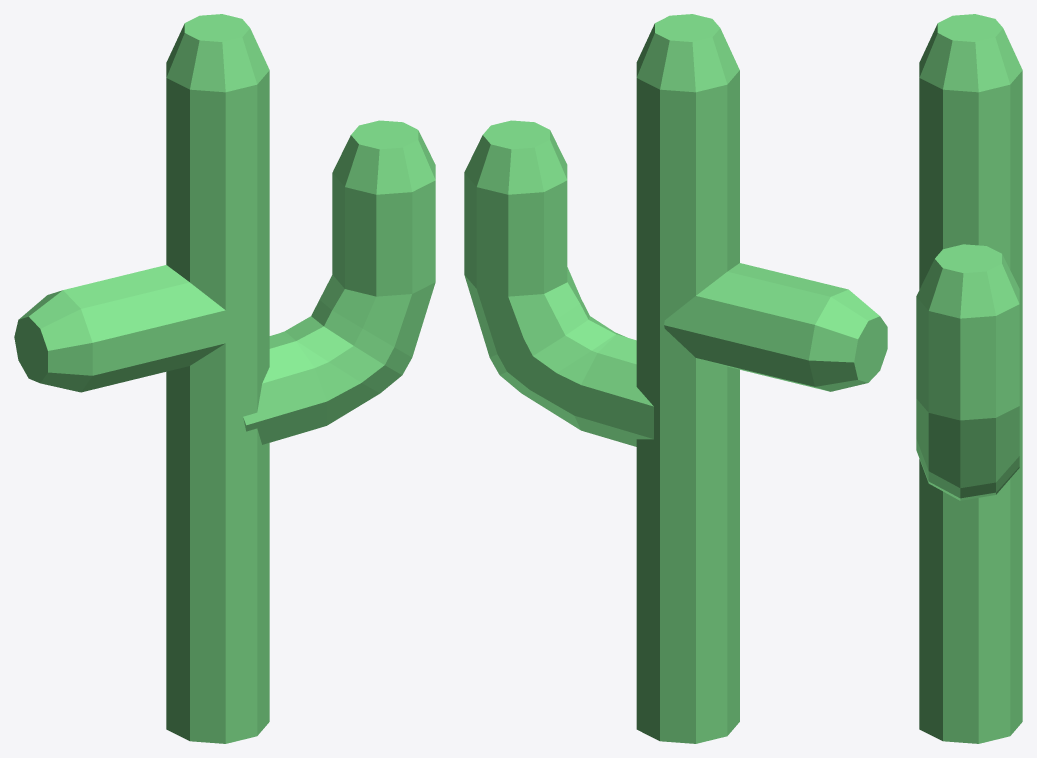
The model's file is cactus.fbx.
The picture shows the model from 3 angles, left to right: view 1: azimuth 30°, elevation 25°; view 2: azimuth 150°, elevation 25°; view 3: azimuth 270°, elevation 25°; orthographic projection.
Parts seen in each view (by area): view 1: Cylinder.009; view 2: Cylinder.009; view 3: Cylinder.009.
Boxes of the visible parts, left/top/right/bottom form: Cylinder.009: left=14, top=14, right=435, bottom=743; Cylinder.009: left=464, top=14, right=887, bottom=743; Cylinder.009: left=916, top=14, right=1022, bottom=743.
Bounding box in the file's own units: 866 × 1438 × 200.
